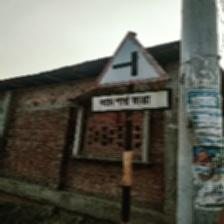Side-road-left: (95, 32, 169, 110)
